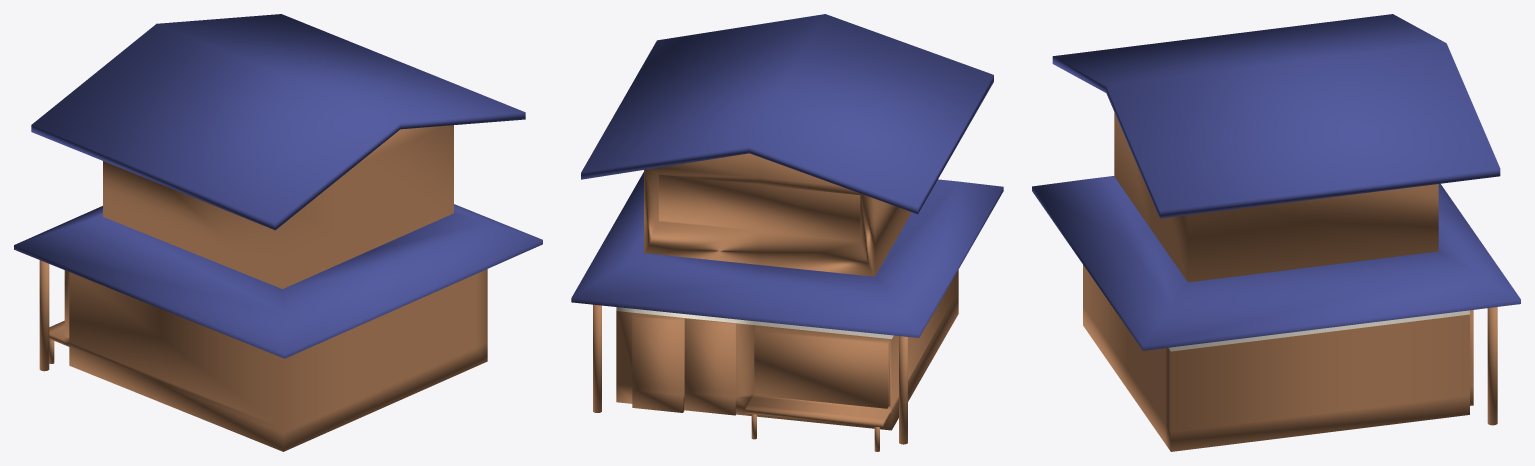
The model's file is 051_古民家009.glb.
The picture shows the model from 3 angles, left to right: view 1: azimuth 30°, elevation 25°; view 2: azimuth 150°, elevation 25°; view 3: azimuth 270°, elevation 25°; orthographic projection. The views are drawn at different scales.
Parts seen in each view (by area): view 1: 立方体020_1, 立方体020_3, 立方体020; view 2: 立方体020_1, 立方体020_4, 立方体020_3, 立方体020, 立方体020_2; view 3: 立方体020_1, 立方体020_3, 立方体020_2, 立方体020.
Boxes of the visible parts, x1,y1,x2,y2 form: 立方体020_1: (14,14,542,358); 立方体020_3: (49,125,487,451); 立方体020: (39,260,66,371); 立方体020_1: (571,14,1003,337); 立方体020_4: (632,174,889,415); 立方体020_3: (616,153,958,430); 立方体020: (593,304,907,451); 立方体020_2: (616,307,893,339); 立方体020_1: (1032,14,1520,350); 立方体020_3: (1083,112,1469,451); 立方体020_2: (1168,310,1469,351); 立方体020: (1487,307,1497,425).
Size of the model in its own units: 3.55 by 2.53 by 3.55.
